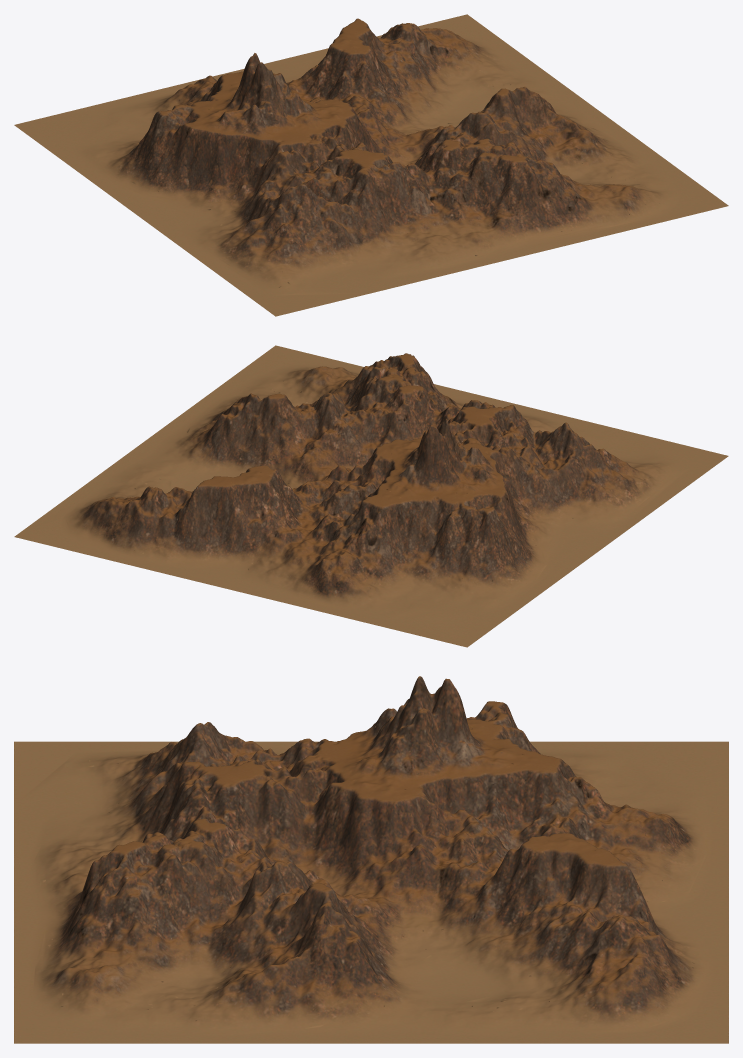
Rendered from red_sand_desert_canyon1K.glb.
The picture shows the model from 3 angles, top to bottom: view 1: azimuth 30°, elevation 25°; view 2: azimuth 150°, elevation 25°; view 3: azimuth 270°, elevation 25°; orthographic projection. The views are drawn at different scales.
Parts seen in each view (by area): view 1: Material_001-material (×3); view 2: Material_001-material (×3); view 3: Material_001-material (×3).
Part boxes in pixels (x1,y1,x2,y2): Material_001-material (×3): (14,14,728,316); Material_001-material (×3): (14,345,728,647); Material_001-material (×3): (14,676,728,1043).
Size of the model in its own units: 20.33 by 4.86 by 20.33.
Materials: 1 (1 with a texture image).
